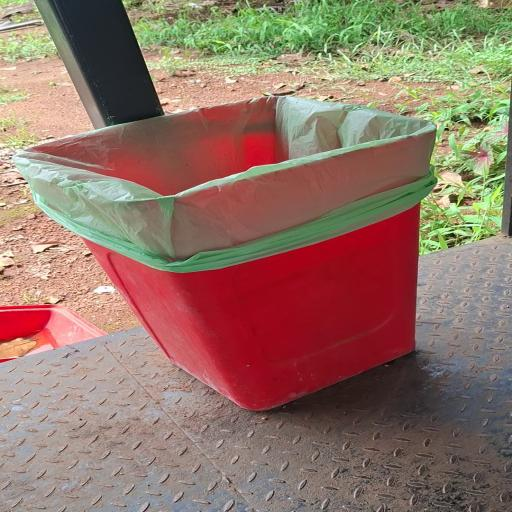Nilkamal-dustbin-detection: (16, 97, 435, 410)
